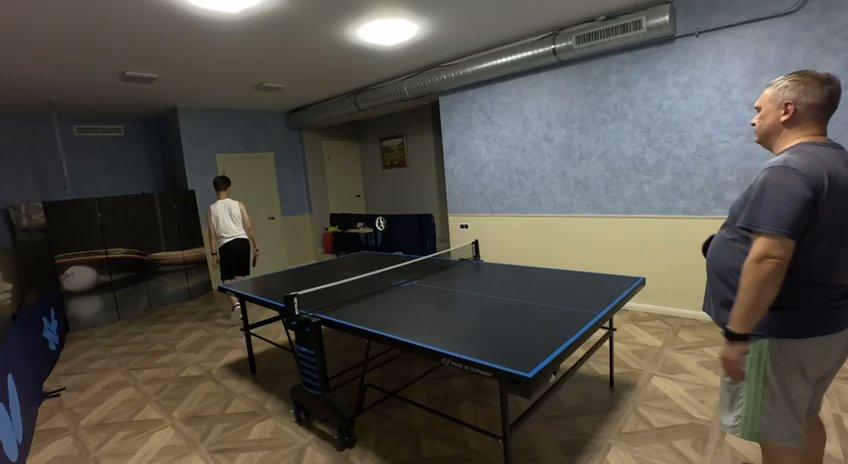Net: (283, 240, 481, 321)
Player1: (208, 175, 256, 281)
Player2: (703, 70, 847, 463)
Table: (222, 253, 640, 377)
